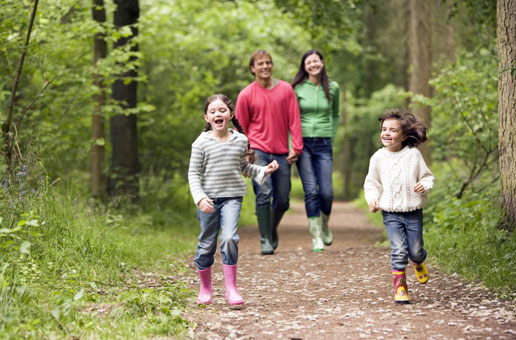Person: (174, 93, 282, 316), (355, 102, 442, 309), (229, 47, 311, 259), (292, 41, 353, 260)
